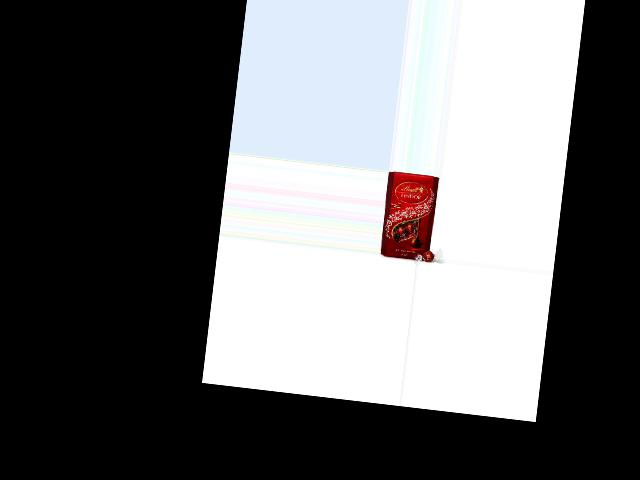chocolate: (380, 171, 444, 262)
